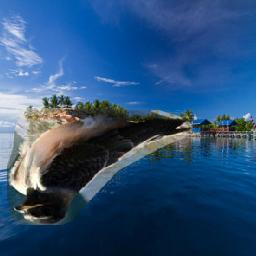Swallow: (7, 109, 195, 226)
